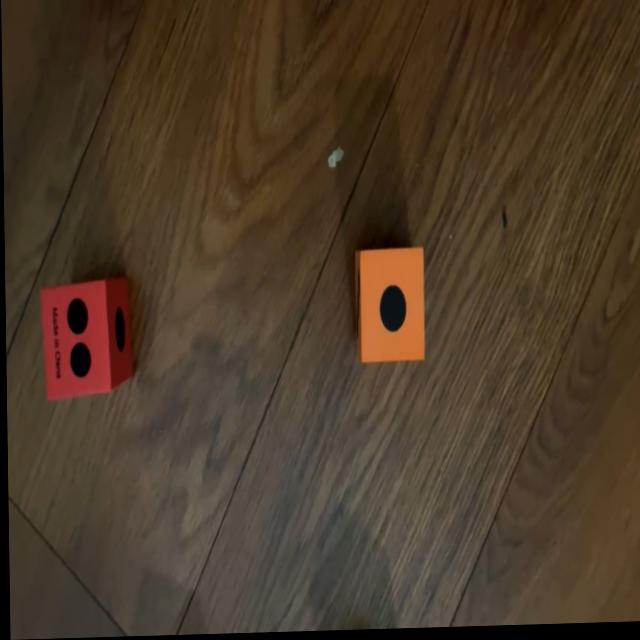cube: (39, 275, 130, 401)
